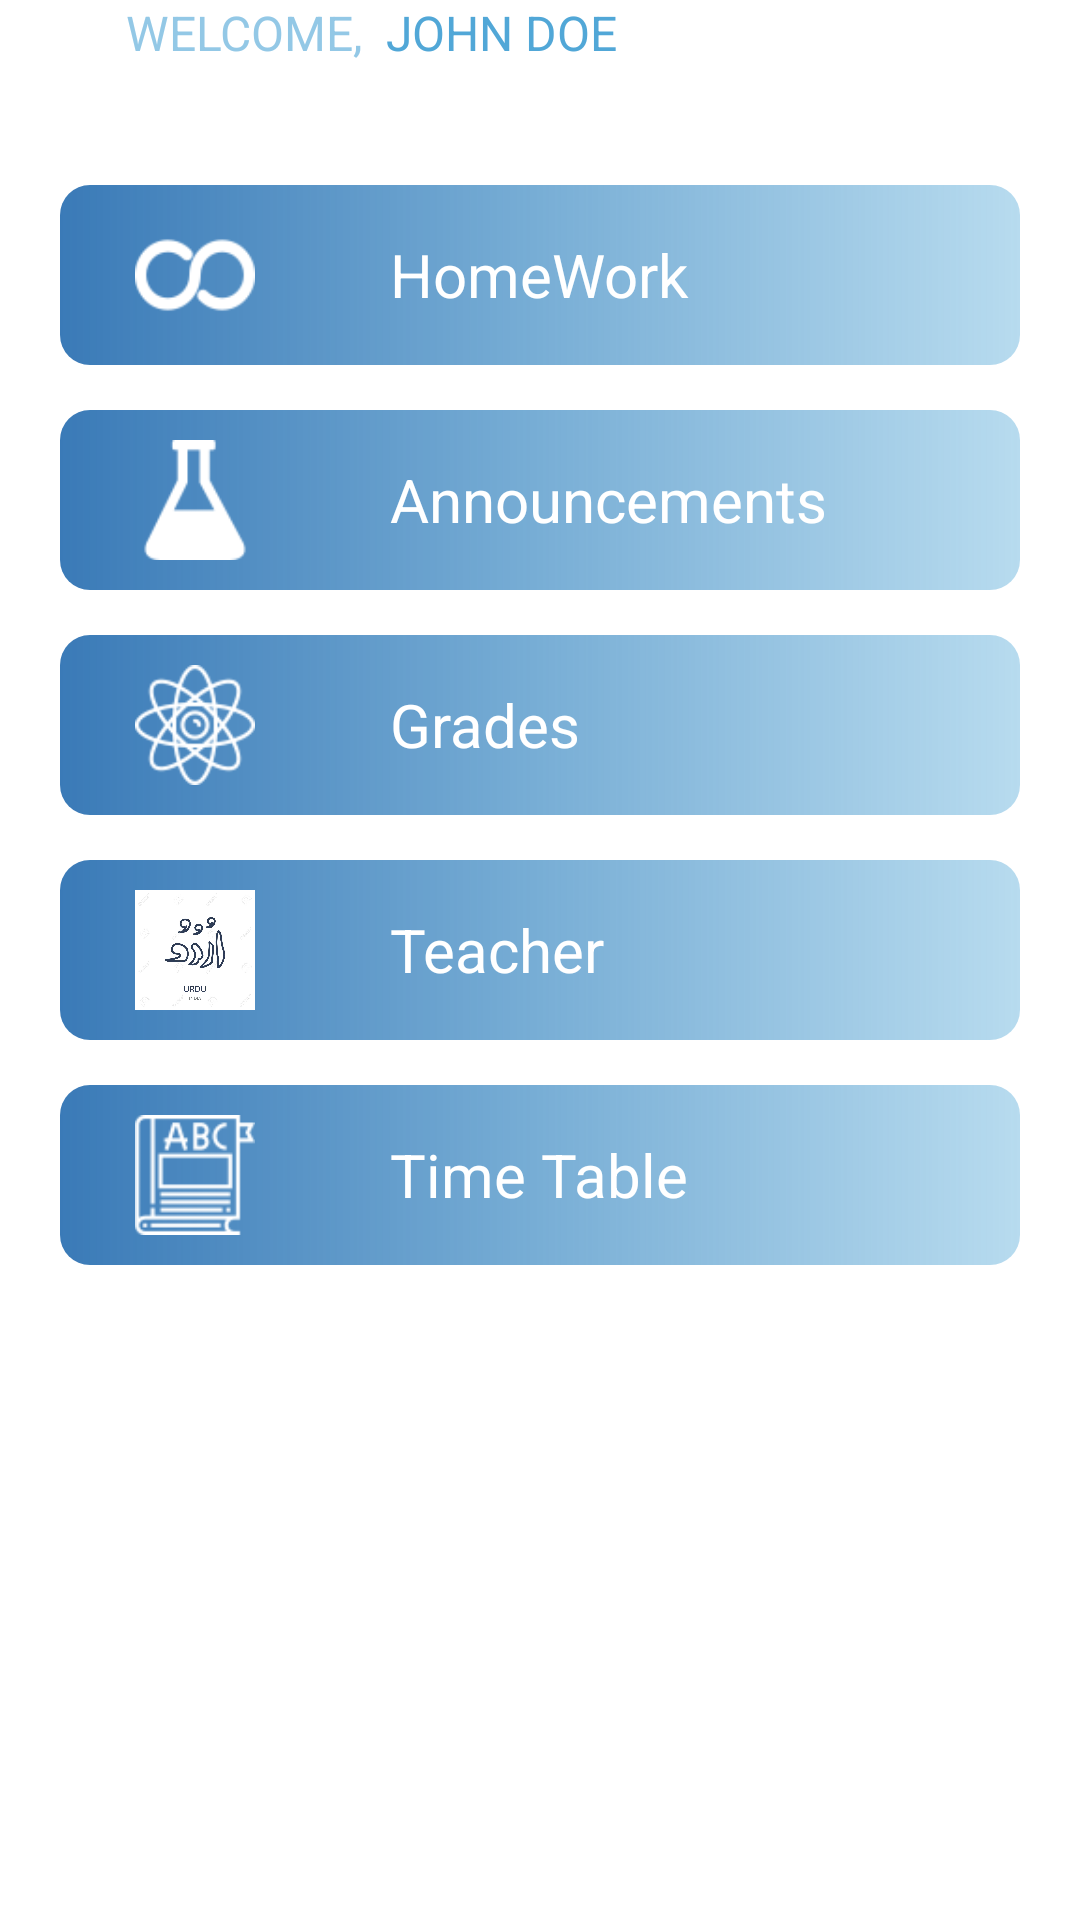

Point at icon controls on the screen. Image size 1080px x 1920px, points as [x,y].
chemistry: [195,500]
english: [195,1175]
math: [195,275]
physics: [202,725]
